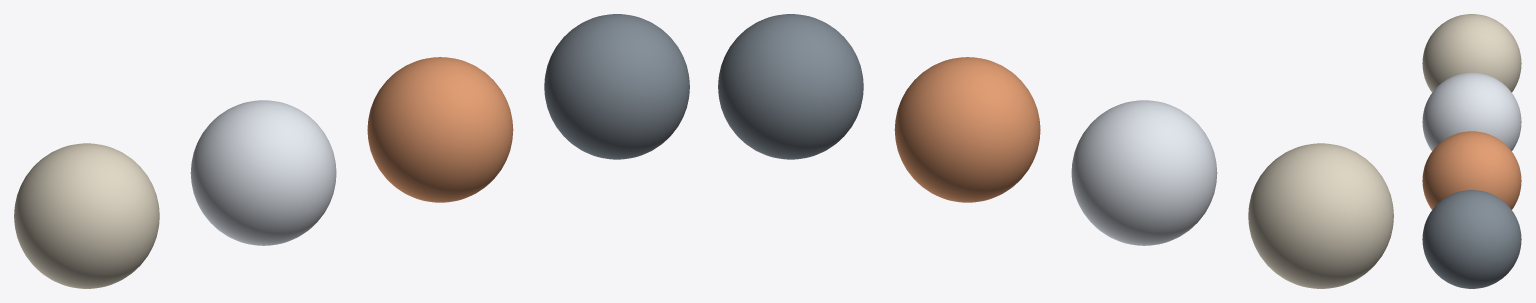
The model's file is MaterialStudy.gltf.
3 views of the same model, side by side, from view 1: azimuth 30°, elevation 25°; view 2: azimuth 150°, elevation 25°; view 3: azimuth 270°, elevation 25° (orthographic). The views are drawn at different scales.
Parts seen in each view (by area): view 1: Brushed Silver, Polished Copper, Warm Ceramic, Rough Stone; view 2: Brushed Silver, Polished Copper, Warm Ceramic, Rough Stone; view 3: Rough Stone, Brushed Silver, Polished Copper, Warm Ceramic.
Boxes of the visible parts, left/top/right/bottom form: Brushed Silver: left=190, top=100, right=336, bottom=245; Polished Copper: left=367, top=57, right=513, bottom=202; Warm Ceramic: left=14, top=143, right=159, bottom=288; Rough Stone: left=544, top=14, right=689, bottom=159; Brushed Silver: left=1071, top=100, right=1217, bottom=245; Polished Copper: left=894, top=57, right=1040, bottom=202; Warm Ceramic: left=1248, top=143, right=1393, bottom=288; Rough Stone: left=718, top=14, right=863, bottom=159; Rough Stone: left=1422, top=190, right=1521, bottom=288; Brushed Silver: left=1422, top=72, right=1521, bottom=150; Polished Copper: left=1422, top=131, right=1521, bottom=209; Warm Ceramic: left=1422, top=14, right=1521, bottom=92.
Bounding box in the file's own units: 10.4 × 2 × 2.
